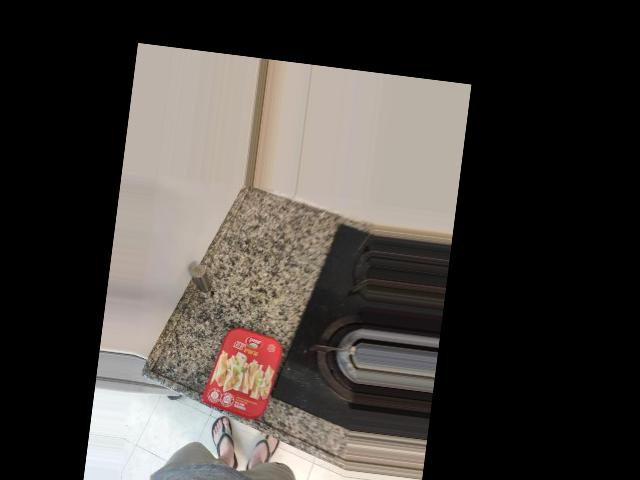cheese: (216, 233, 319, 352)
